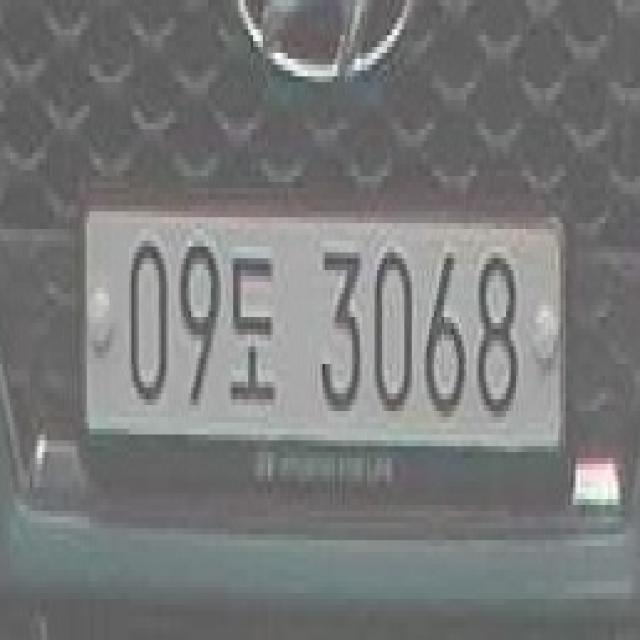plat: (79, 203, 569, 479)
